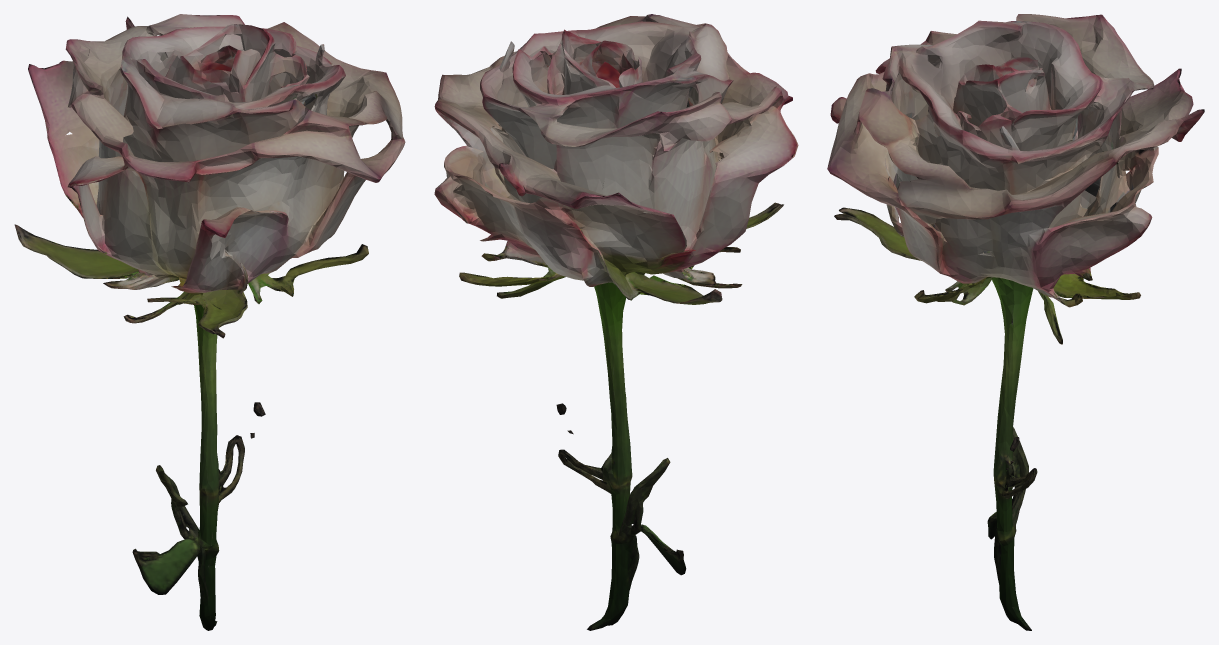
3 renders of one model, left to right at view 1: azimuth 30°, elevation 25°; view 2: azimuth 150°, elevation 25°; view 3: azimuth 270°, elevation 25°, orthographic. The views are drawn at different scales.
Parts seen in each view (by area): view 1: world; view 2: world; view 3: world.
Boxes of the visible parts, <box> form: world: <box>14,14,405,630</box>; world: <box>434,14,798,630</box>; world: <box>827,14,1204,630</box>.
Bounding box in the file's own units: 0.5745 × 0.9601 × 0.571.
Materials: 1 (1 with a texture image).
